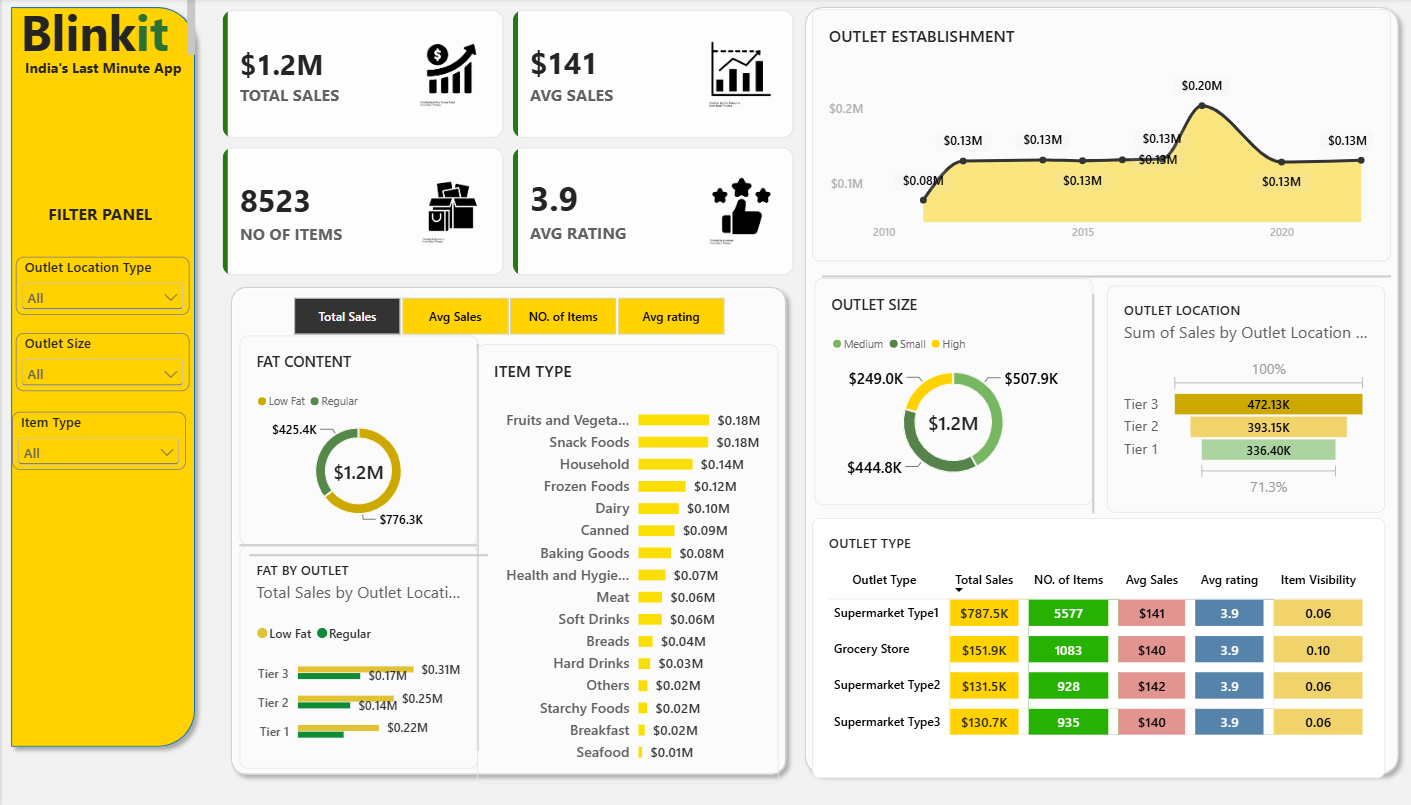

What the dashboard file says about the page in this screenshot:
{"tool":"powerbi","page":{"name":"Page 1","canvas":[1400,800],"ordinal":0},"visuals":[{"type":"shape","box":[0,0,200,750],"z":0},{"type":"textbox","box":[0,0,190.9,60],"z":1000},{"type":"textbox","box":[0,60,200.4,30],"z":2000},{"type":"cardVisual","fields":{"Data":["BlinkIT Grocery Data.Total Sales","BlinkIT Grocery Data.Avg Sales","BlinkIT Grocery Data.NO. of Items","BlinkIT Grocery Data.Avg rating"]},"box":[218.1,10.9,567.1,265.9],"z":3000},{"type":"shape","box":[218.1,276.8,567.1,500.3],"z":4000},{"type":"donutChart","title":"FAT CONTENT","fields":{"Category":["BlinkIT Grocery Data.Item Fat Content"],"Y":["BlinkIT Grocery Data.Total Sales"]},"box":[234.5,334,235.9,207.2],"z":5000},{"type":"slicer","fields":{"Values":["Metrics.Metrics"]},"box":[268.6,294.5,465,40],"z":6000},{"type":"clusteredBarChart","title":"FAT BY OUTLET","fields":{"Category":["BlinkIT Grocery Data.Outlet Location Type"],"Series":["BlinkIT Grocery Data.Item Fat Content"],"Y":["BlinkIT Grocery Data.Total Sales"]},"box":[234.5,541.2,235.9,220.9],"z":7000},{"type":"shape","box":[234.5,524.9,235.9,34.1],"z":8000},{"type":"shape","box":[462.2,342.2,16.4,402.2],"z":9000},{"type":"barChart","title":"ITEM TYPE","fields":{"Category":["BlinkIT Grocery Data.Item Type"],"Y":["BlinkIT Grocery Data.Total Sales"]},"box":[470.4,342.2,298.6,434.9],"z":10000},{"type":"shape","box":[244.5,534.9,235.9,34.1],"z":11000},{"type":"shape","box":[785.3,0,605.3,777.1],"z":12000},{"type":"lineChart","title":"OUTLET ESTABLISHMENT","fields":{"Category":["BlinkIT Grocery Data.Outlet Establishment Year"],"Y":["BlinkIT Grocery Data.Total Sales"]},"box":[801.6,10.9,572.6,249.5],"z":13000},{"type":"shape","box":[811.2,259,563.1,34.1],"z":14000},{"type":"donutChart","title":"OUTLET SIZE","fields":{"Category":["BlinkIT Grocery Data.Outlet Size"],"Y":["BlinkIT Grocery Data.Total Sales"]},"box":[804.4,276.8,275,225],"z":15000},{"type":"shape","box":[1066.1,293.1,27.3,216.8],"z":16000},{"type":"funnel","title":"OUTLET LOCATION","fields":{"Category":["BlinkIT Grocery Data.Outlet Location Type"],"Y":["Sum(BlinkIT Grocery Data.Sales)"]},"box":[1093.4,284.9,275,225],"z":17000},{"type":"shape","box":[805.7,509.9,563.1,34.1],"z":18000},{"type":"pivotTable","title":"OUTLET TYPE","fields":{"Rows":["BlinkIT Grocery Data.Outlet Type"],"Values":["BlinkIT Grocery Data.Total Sales","BlinkIT Grocery Data.NO. of Items","BlinkIT Grocery Data.Avg Sales","BlinkIT Grocery Data.Avg rating","Avg(BlinkIT Grocery Data.Item Visibility)"]},"box":[801.6,514,567.1,257.7],"z":19000},{"type":"slicer","fields":{"Values":["BlinkIT Grocery Data.Outlet Location Type"]},"box":[13.6,256.3,171.8,57.3],"z":20000},{"type":"slicer","fields":{"Values":["BlinkIT Grocery Data.Outlet Size"]},"box":[13.6,331.3,171.8,57.3],"z":21000},{"type":"slicer","fields":{"Values":["BlinkIT Grocery Data.Item Type"]},"box":[9.5,409,171.8,57.3],"z":22000},{"type":"textbox","box":[23.2,201.8,147.2,21.8],"z":23000}]}

Visuals, with their boxes in screenshot pixels (x1, y1, x2, y2), scaled from the page's 1400x800 canvas onto the 1411x805 screenshot:
shape: [0, 0, 202, 755]
textbox: [0, 0, 192, 60]
textbox: [0, 60, 202, 91]
cardVisual - BlinkIT Grocery Data.Total Sales x BlinkIT Grocery Data.Avg Sales: [220, 11, 791, 279]
shape: [220, 279, 791, 782]
"FAT CONTENT" donutChart: [236, 336, 474, 545]
slicer - Metrics.Metrics: [271, 296, 739, 337]
"FAT BY OUTLET" clusteredBarChart: [236, 545, 474, 767]
shape: [236, 528, 474, 562]
shape: [466, 344, 482, 749]
"ITEM TYPE" barChart: [474, 344, 775, 782]
shape: [246, 538, 484, 573]
shape: [791, 0, 1402, 782]
"OUTLET ESTABLISHMENT" lineChart: [808, 11, 1385, 262]
shape: [818, 261, 1385, 295]
"OUTLET SIZE" donutChart: [811, 279, 1088, 505]
shape: [1074, 295, 1102, 513]
"OUTLET LOCATION" funnel: [1102, 287, 1379, 513]
shape: [812, 513, 1380, 547]
"OUTLET TYPE" pivotTable: [808, 517, 1379, 777]
slicer - BlinkIT Grocery Data.Outlet Location Type: [14, 258, 187, 316]
slicer - BlinkIT Grocery Data.Outlet Size: [14, 333, 187, 391]
slicer - BlinkIT Grocery Data.Item Type: [10, 412, 183, 469]
textbox: [23, 203, 172, 225]
